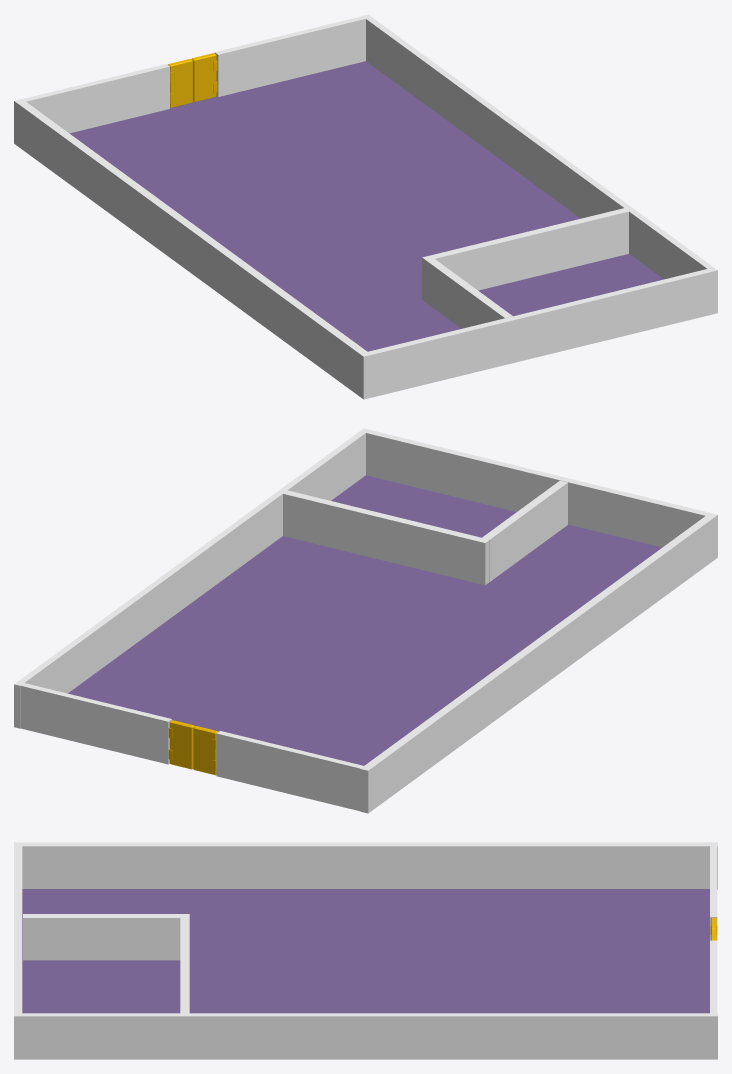
Rendered from maps_95.fbx.
3 renders of one model, top to bottom at view 1: azimuth 30°, elevation 25°; view 2: azimuth 150°, elevation 25°; view 3: azimuth 270°, elevation 25°, orthographic.
Parts seen in each view (by area): view 1: wall_01_08_geo, wall_01_07_geo, wall_01_05_geo, wall_01_06_geo, wall_01_07_geo4, wall_01_09_geo1, wall_01_09_geo, wall_01_07_geo2, polySurface161, polySurface165; view 2: wall_01_08_geo, wall_01_07_geo, wall_01_06_geo, wall_01_05_geo, wall_01_07_geo4, wall_01_09_geo1, wall_01_09_geo, wall_01_07_geo2, polySurface161, polySurface165; view 3: wall_01_08_geo, wall_01_06_geo, wall_01_07_geo, wall_01_07_geo2, wall_01_05_geo, wall_01_07_geo4, wall_01_09_geo, wall_01_09_geo1.
Part boxes in pixels (x1,y1,x2,y2): wall_01_08_geo: (69,61,663,351); wall_01_07_geo: (14,99,371,399); wall_01_05_geo: (368,269,711,397); wall_01_06_geo: (362,14,717,314); wall_01_07_geo4: (422,208,628,302); wall_01_09_geo1: (214,16,365,96); wall_01_09_geo: (22,64,169,133); wall_01_07_geo2: (426,259,512,328); polySurface161: (191,53,217,102); polySurface165: (168,59,192,107); wall_01_08_geo: (68,475,661,765); wall_01_07_geo: (360,513,717,813); wall_01_06_geo: (14,428,369,728); wall_01_05_geo: (366,430,709,547); wall_01_07_geo4: (283,490,489,585); wall_01_09_geo1: (20,683,171,764); wall_01_09_geo: (216,731,363,811); wall_01_07_geo2: (482,480,567,581); polySurface161: (168,720,194,769); polySurface165: (193,726,217,775); wall_01_08_geo: (22,889,709,1013); wall_01_06_geo: (14,1013,717,1059); wall_01_07_geo: (14,842,717,889); wall_01_07_geo2: (23,914,180,960); wall_01_05_geo: (14,846,22,1013); wall_01_07_geo4: (180,914,189,1013); wall_01_09_geo: (710,846,717,940); wall_01_09_geo1: (710,940,717,1013).
Size of the model in its own units: 76.85 by 8.89 by 131.
2 materials, 2 textured.
